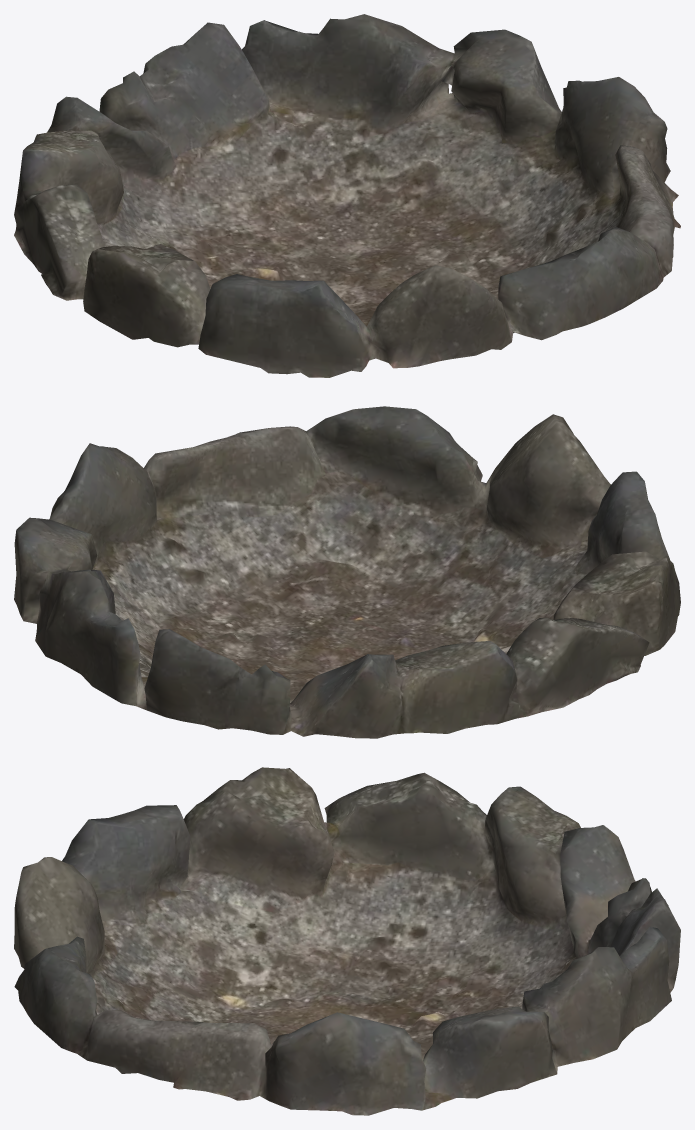
Rendered from stone_fire_pit.glb.
3 renders of one model, top to bottom at view 1: azimuth 30°, elevation 25°; view 2: azimuth 150°, elevation 25°; view 3: azimuth 270°, elevation 25°, orthographic.
Visible parts, largest first — view 1: stone_fire_pit; view 2: stone_fire_pit; view 3: stone_fire_pit.
Part boxes in pixels (x1,y1,x2,y2): stone_fire_pit: [14, 14, 680, 377]; stone_fire_pit: [14, 406, 680, 738]; stone_fire_pit: [14, 767, 680, 1115].
Bounding box in the file's own units: 1.45 × 0.3883 × 1.43.
1 material, 1 textured.
